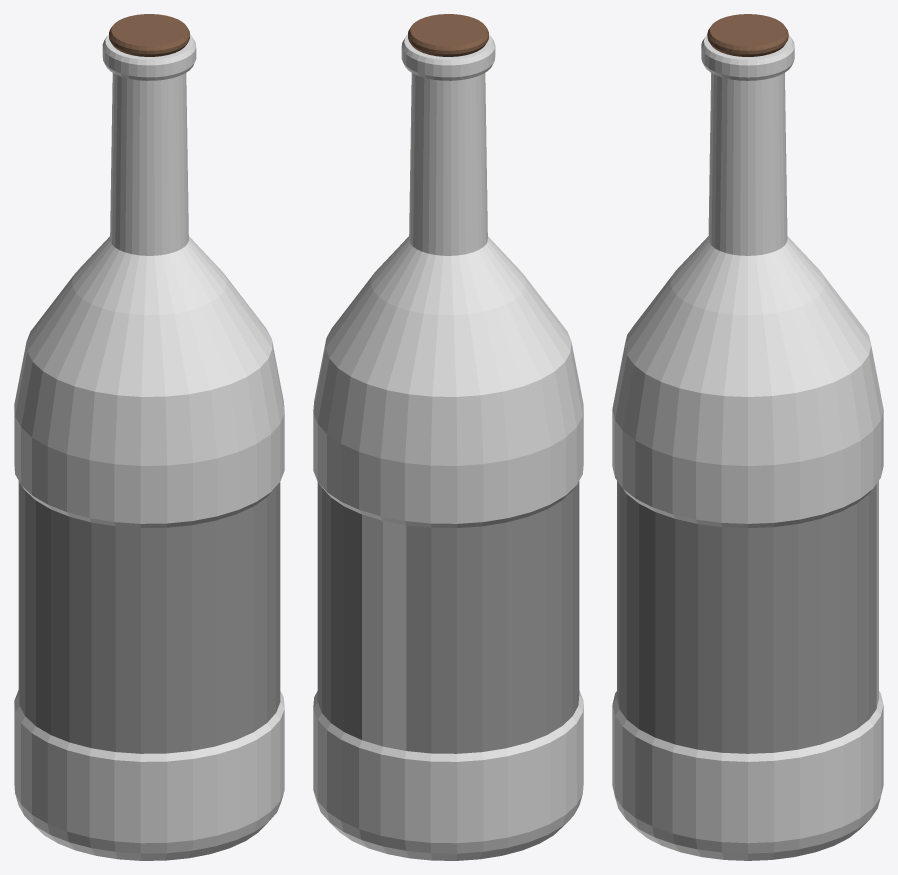
File: Bottle_Wine.fbx
3 views of the same model, side by side, from view 1: azimuth 30°, elevation 25°; view 2: azimuth 150°, elevation 25°; view 3: azimuth 270°, elevation 25° (orthographic).
Visible parts, largest first — view 1: Bottle; view 2: Bottle; view 3: Bottle.
Boxes of the visible parts, x1,y1,x2,y2 form: Bottle: (14,14,284,860); Bottle: (313,14,583,860); Bottle: (612,14,883,860).
Bounding box in the file's own units: 7 × 22.2 × 7.
